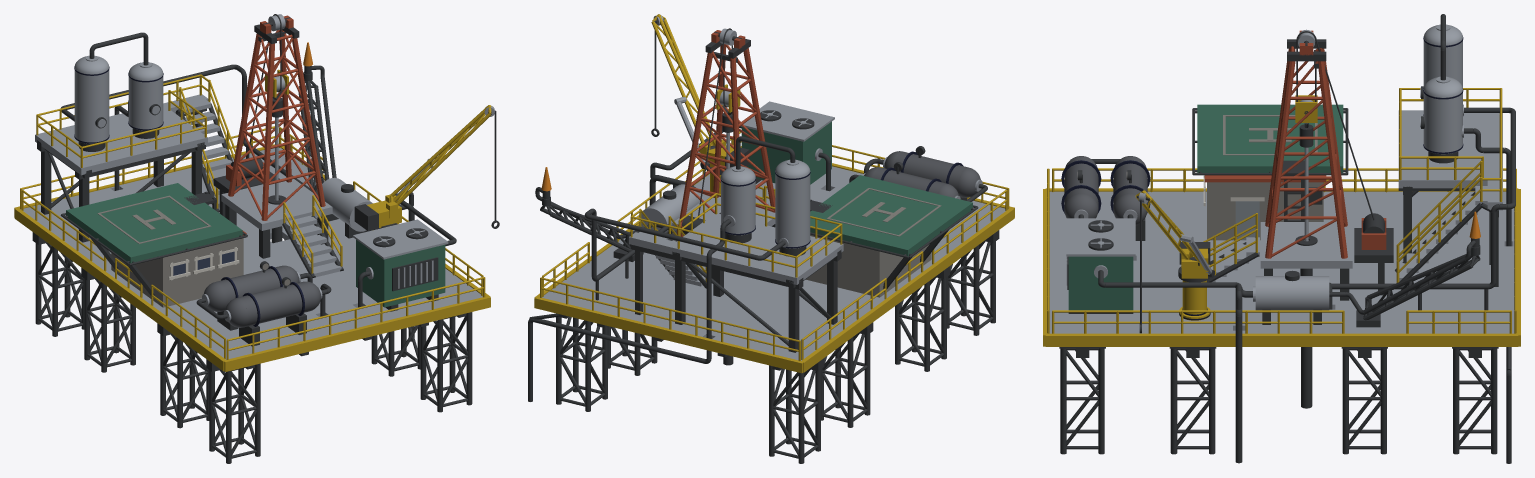
Rendered from offshore_oil_platform_lvl3.glb.
3 views of the same model, side by side, from view 1: azimuth 30°, elevation 25°; view 2: azimuth 150°, elevation 25°; view 3: azimuth 270°, elevation 25° (orthographic). The views are drawn at different scales.
Parts seen in each view (by area): view 1: offshore_oil_platform; view 2: offshore_oil_platform; view 3: offshore_oil_platform.
Boxes of the visible parts, x1,y1,x2,y2 form: offshore_oil_platform: (14, 14, 499, 463); offshore_oil_platform: (528, 14, 1014, 463); offshore_oil_platform: (1043, 14, 1520, 463).
Bounding box in the file's own units: 0.95 × 0.8664 × 1.
